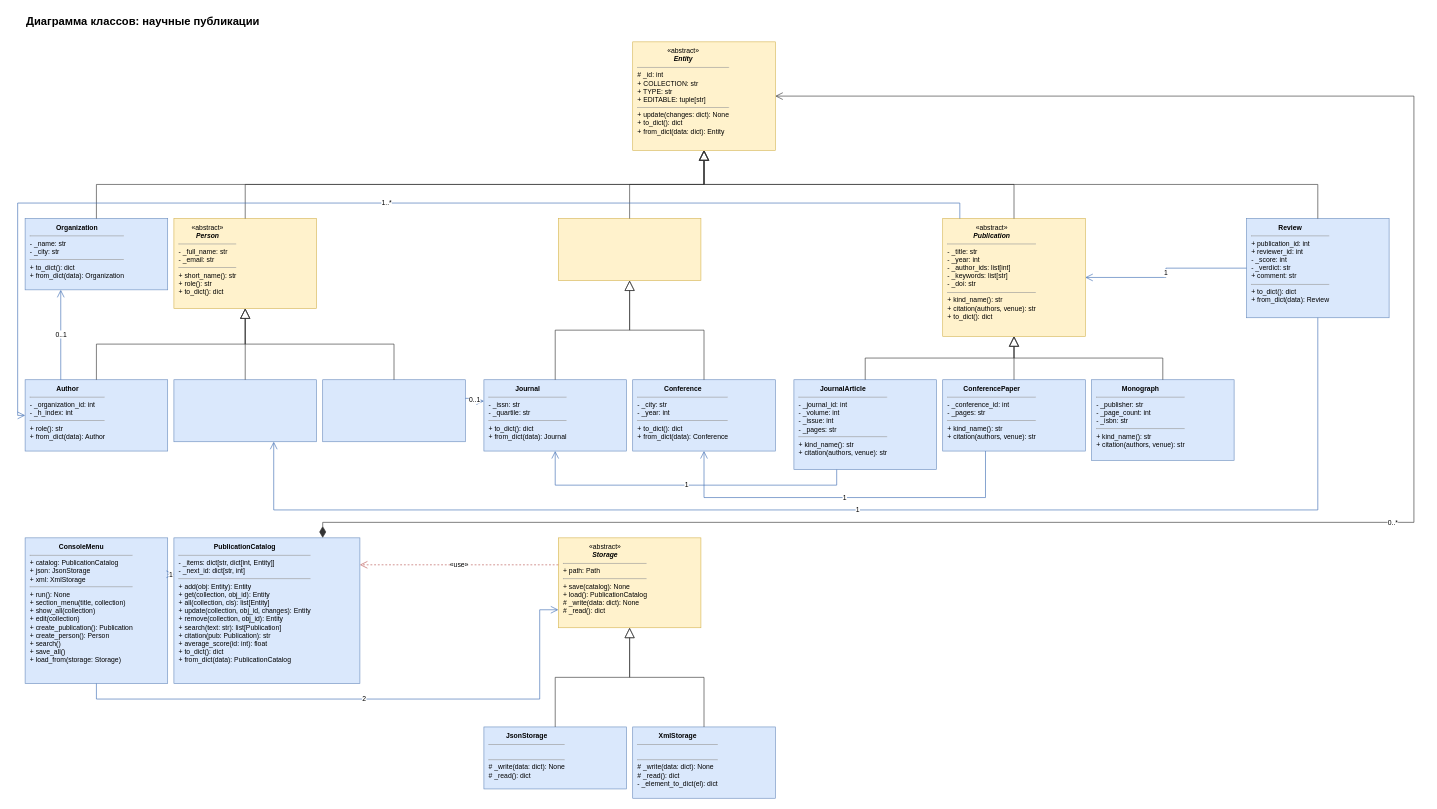
This 1437x809 diagram has some shape labels left out. Here are the shapes that lost their labels. From the top down, the centre of each, then its label:
pixel 629 249: «abstract» Venue - _name: str
pixel 245 410: Reviewer - _specialization: str + role(): str + from_dict(data): Reviewer
pixel 393 410: Editor - _journal_id: int + role(): str + from_dict(data): Editor
